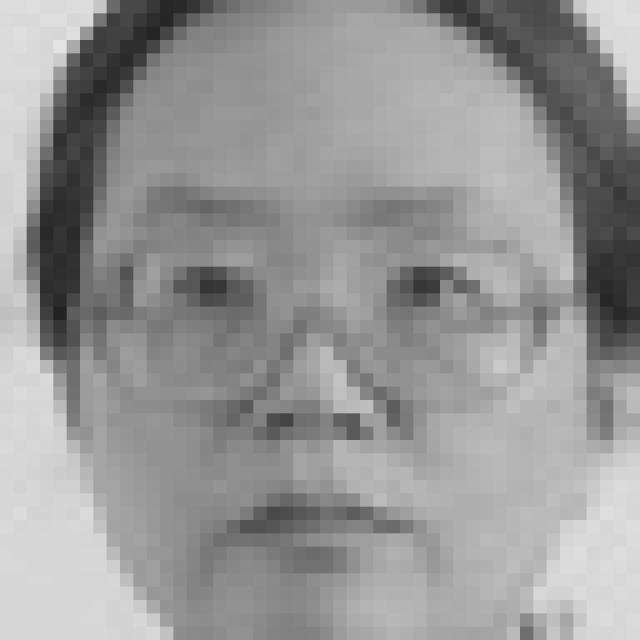neutral: (116, 174, 531, 577)
